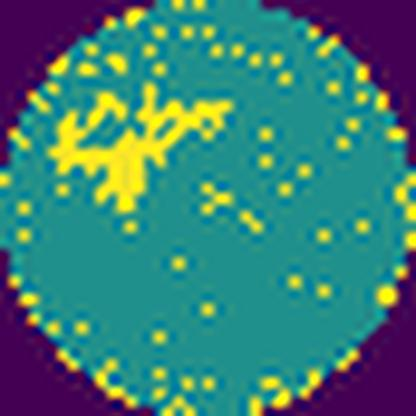Loc: (53, 81, 234, 214)
